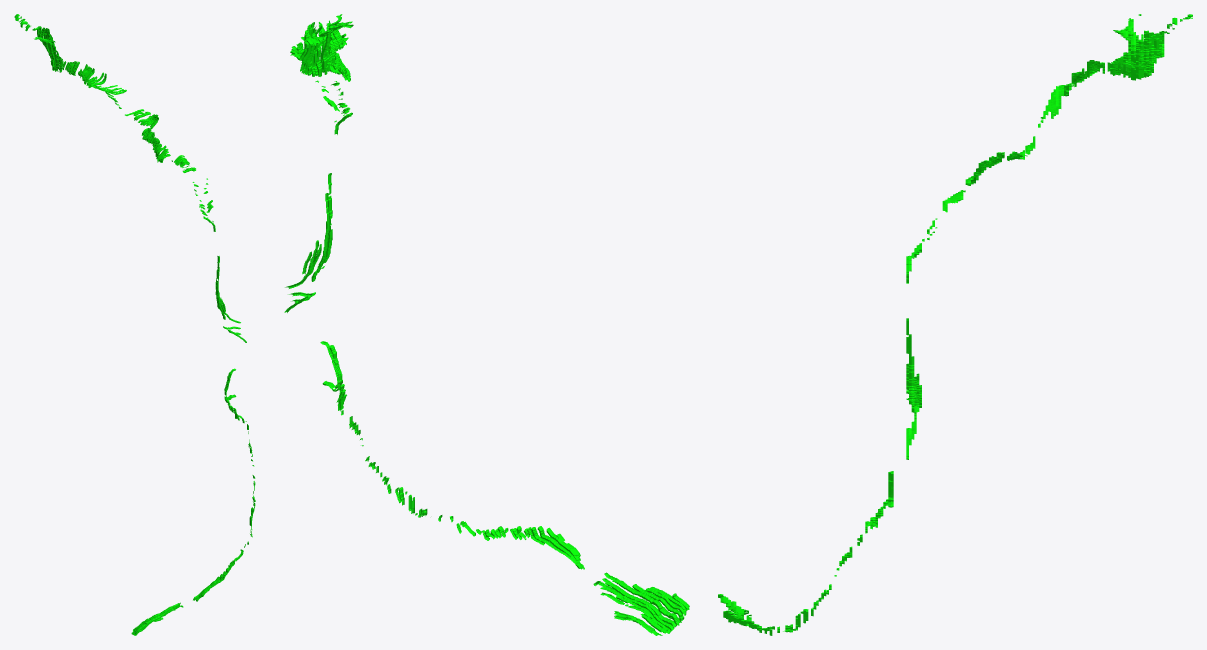
Rendered from Sketch_Volume_Viewer_AIB_Rby_AIAR_AIB_Rby_AIAR_1_1_0000_green_0_24947b6670.gltf.
3 views of the same model, side by side, from view 1: azimuth 30°, elevation 25°; view 2: azimuth 150°, elevation 25°; view 3: azimuth 270°, elevation 25° (orthographic). The views are drawn at different scales.
Visible parts, largest first — view 1: AIBRbyAIAR_green-0; view 2: AIBRbyAIAR_green-0; view 3: AIBRbyAIAR_green-0.
Part boxes in pixels (x1,y1,x2,y2): AIBRbyAIAR_green-0: [14, 14, 255, 635]; AIBRbyAIAR_green-0: [284, 14, 689, 635]; AIBRbyAIAR_green-0: [718, 14, 1192, 635].
Size of the model in its own units: 6412 by 16335 by 11040.
